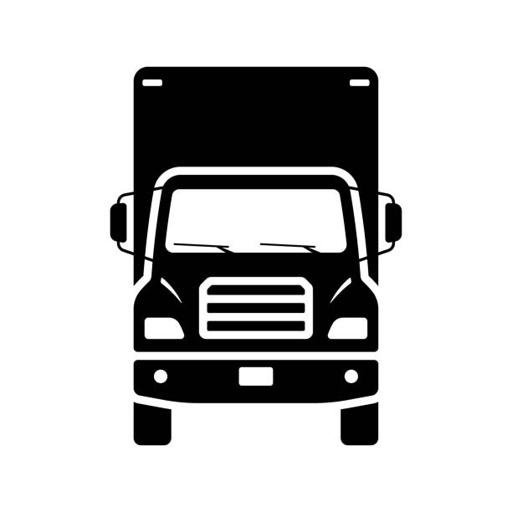truck: (109, 62, 405, 444)
